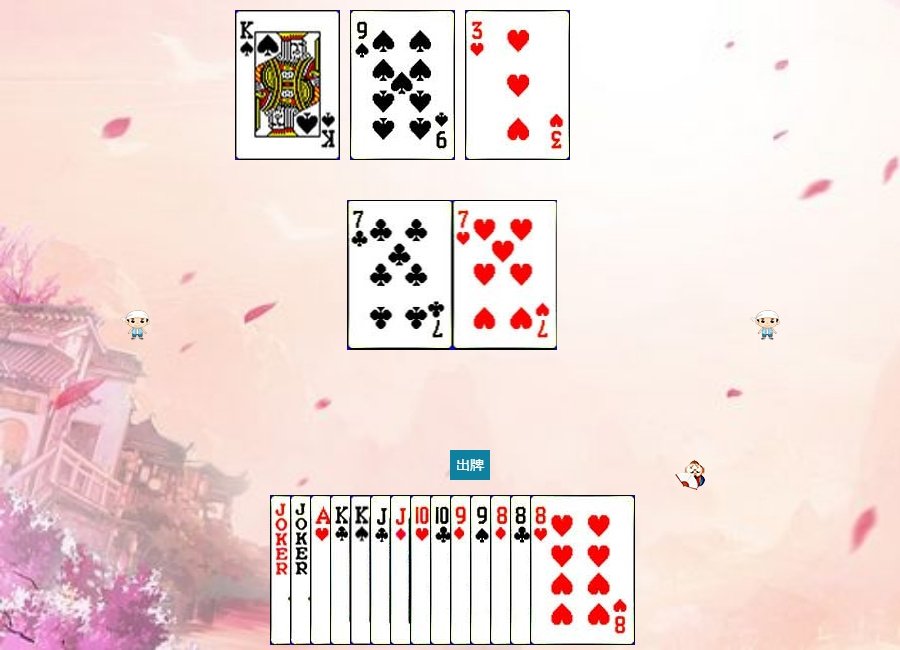10~2: (430, 495, 535, 645)
10~3: (410, 495, 515, 645)
11~1: (390, 495, 495, 645)
11~2: (370, 495, 475, 645)
13~2: (330, 495, 435, 645)
13~4: (235, 10, 340, 160), (350, 495, 455, 645)
14~3: (310, 495, 415, 645)
17~3: (290, 495, 395, 645)
18~4: (270, 495, 375, 645)
3~3: (465, 10, 570, 160)
7~2: (348, 200, 453, 350)
7~3: (453, 200, 558, 350)
8~1: (490, 495, 595, 645)
8~2: (510, 495, 615, 645)
8~3: (530, 495, 635, 645)
9~1: (450, 495, 555, 645)
9~4: (350, 10, 455, 160), (470, 495, 575, 645)
